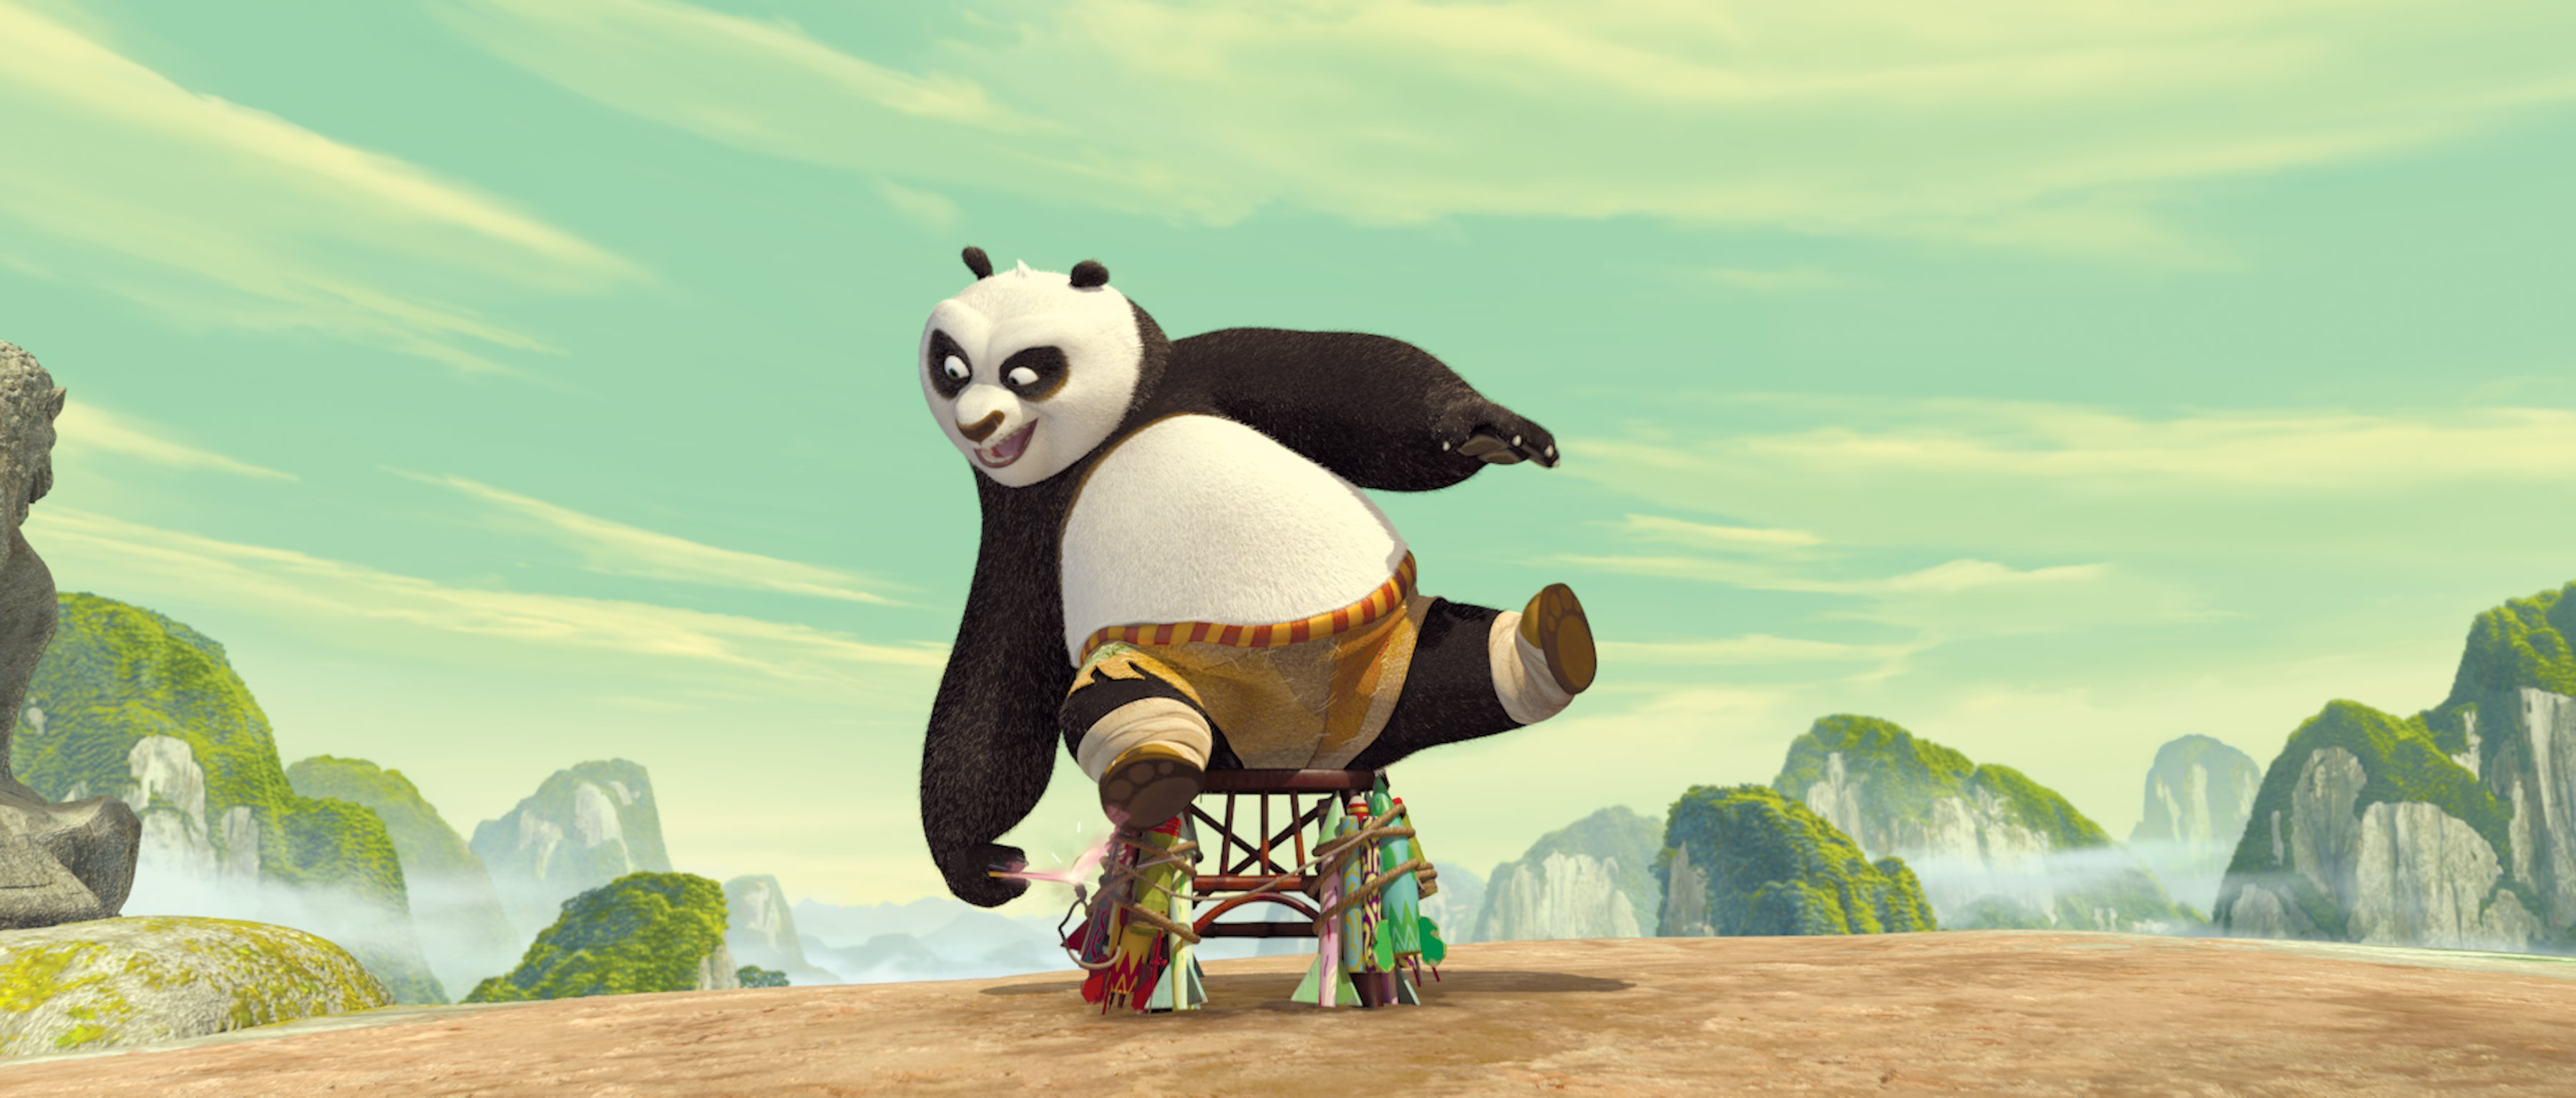panda: (741, 151, 1781, 958)
